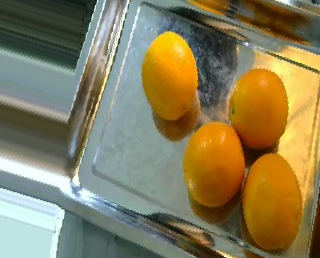Orange: (241, 153, 302, 250), (183, 122, 245, 207), (228, 68, 290, 150), (142, 30, 198, 120)
